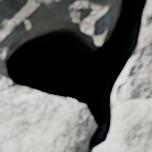broken_brick: (0, 92, 92, 151), (90, 98, 151, 151)
crack: (0, 0, 150, 151)
